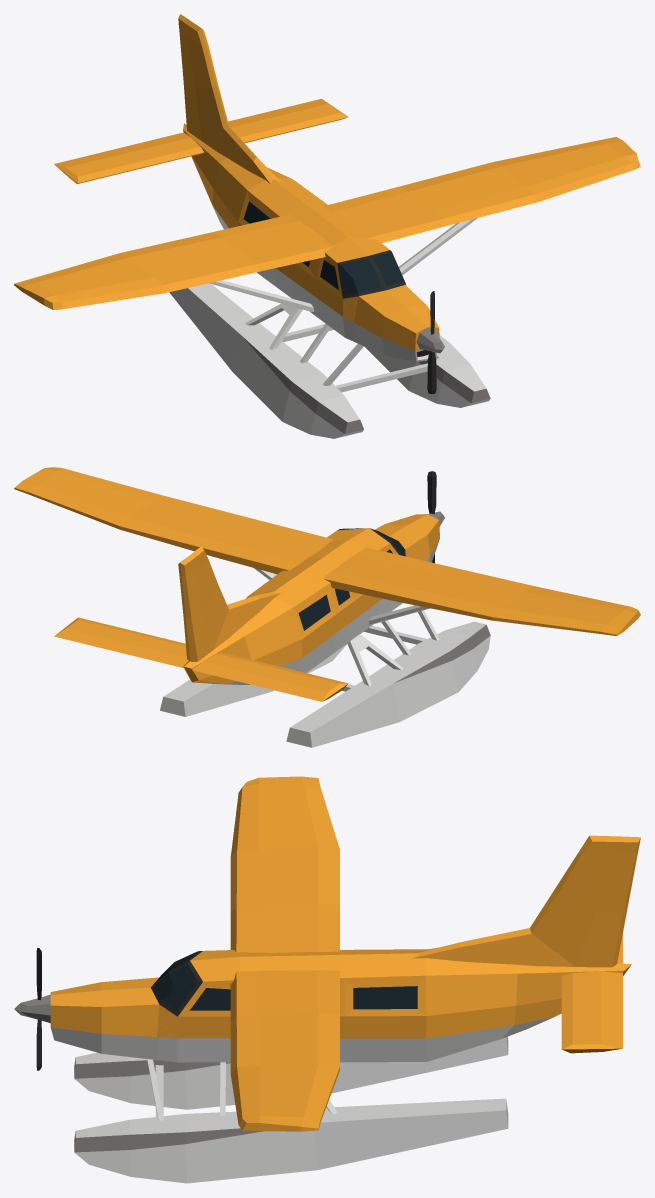
The model's file is floatplane.glb.
The picture shows the model from 3 angles, top to bottom: view 1: azimuth 30°, elevation 25°; view 2: azimuth 150°, elevation 25°; view 3: azimuth 270°, elevation 25°; orthographic projection. The views are drawn at different scales.
Visible parts, largest first — view 1: floatplane-base, floatplane-propeller; view 2: floatplane-base, floatplane-propeller; view 3: floatplane-base, floatplane-propeller.
Boxes of the visible parts, box(x1,y1,x2,y2) form: floatplane-base: box(14, 14, 640, 438); floatplane-propeller: box(416, 291, 444, 394); floatplane-base: box(14, 467, 640, 747); floatplane-propeller: box(427, 471, 444, 563); floatplane-base: box(50, 776, 640, 1183); floatplane-propeller: box(14, 948, 50, 1070).
Size of the model in its own units: 13.7 by 5.4 by 10.34.
Materials: 1 (1 with a texture image).
